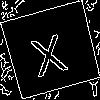X: (25, 25, 69, 78)
